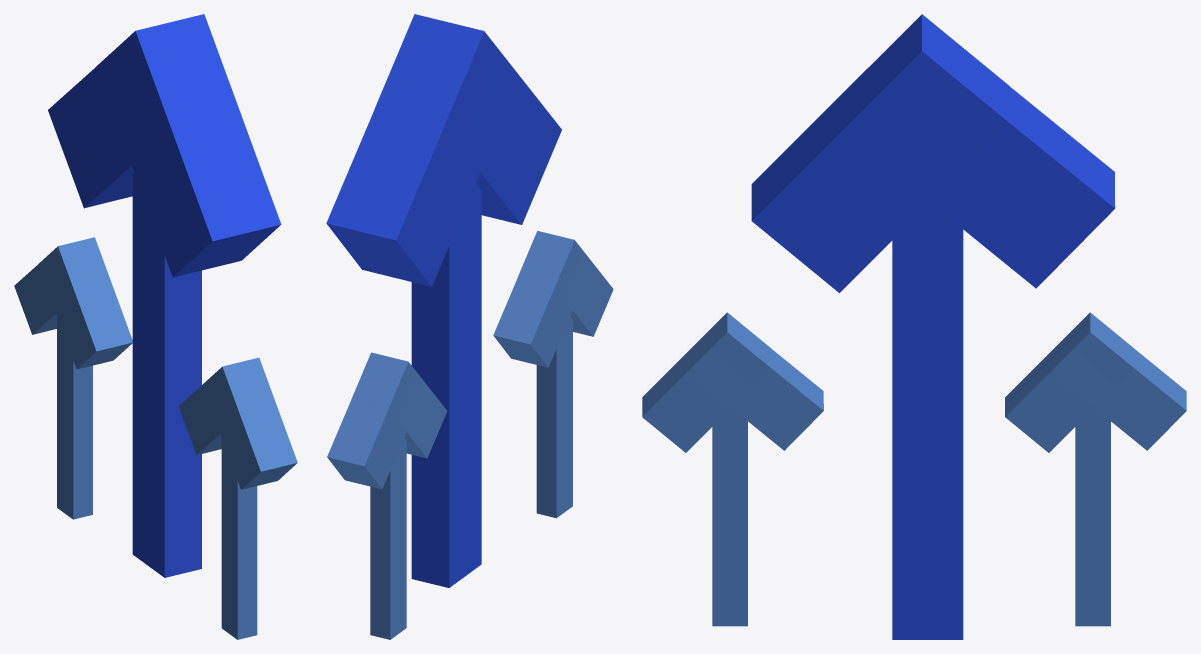
File: arrows.fbx
3 renders of one model, left to right at view 1: azimuth 30°, elevation 25°; view 2: azimuth 150°, elevation 25°; view 3: azimuth 270°, elevation 25°, orthographic. The views are drawn at different scales.
Visible parts, largest first — view 1: Arrow_big; view 2: Arrow_big; view 3: Arrow_big.
Part boxes in pixels (x1=…): Arrow_big: x1=14, y1=14, x2=297, y2=639; Arrow_big: x1=326, y1=14, x2=613, y2=639; Arrow_big: x1=642, y1=14, x2=1186, y2=639.
Bounding box in the file's own units: 49.56 × 363 × 300.
